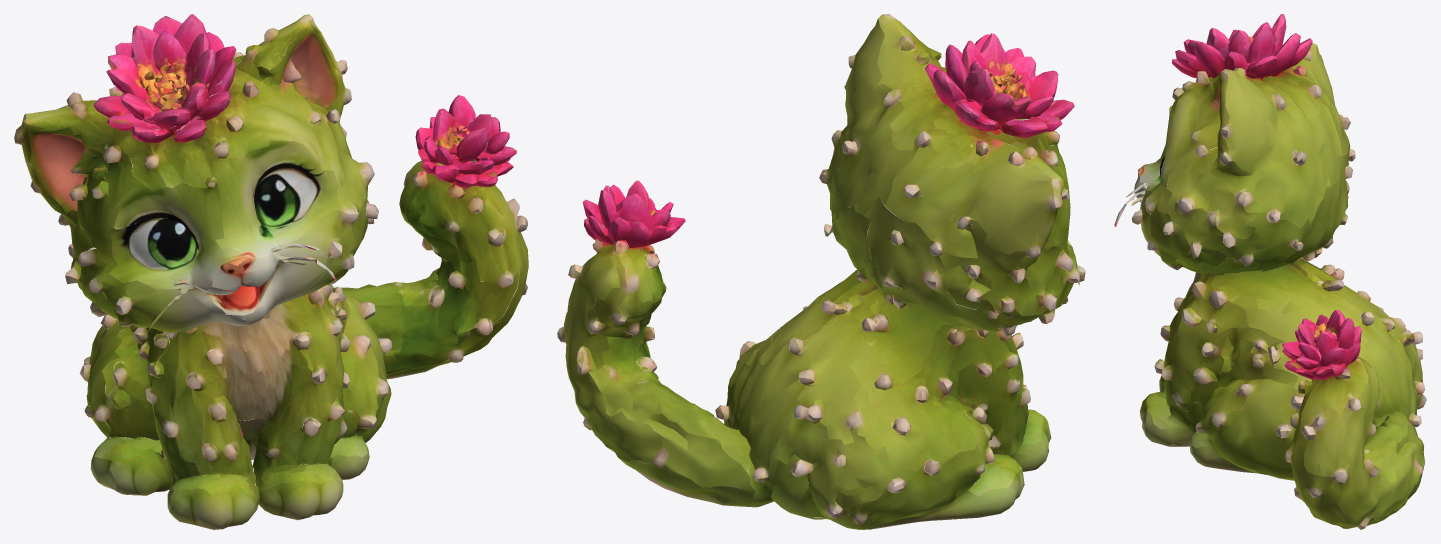
File: cactuskit.glb
The picture shows the model from 3 angles, left to right: view 1: azimuth 30°, elevation 25°; view 2: azimuth 150°, elevation 25°; view 3: azimuth 270°, elevation 25°; orthographic projection. The views are drawn at different scales.
Visible parts, largest first — view 1: textured_mesh.obj; view 2: textured_mesh.obj; view 3: textured_mesh.obj.
Boxes of the visible parts, x1,y1,x2,y2 form: textured_mesh.obj: [14, 14, 528, 529]; textured_mesh.obj: [557, 14, 1085, 529]; textured_mesh.obj: [1114, 14, 1426, 529].
Bounding box in the file's own units: 1.16 × 1 × 0.7289.
1 material, 1 textured.
